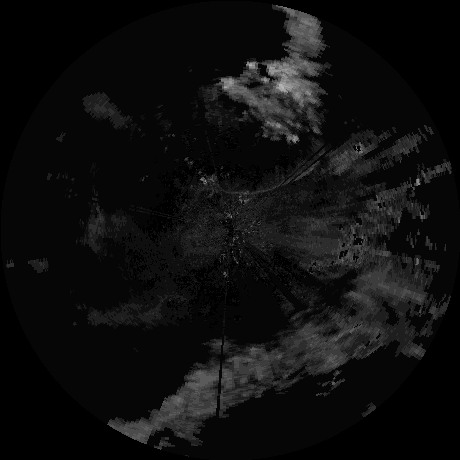frontgust: (208, 160, 317, 195)
